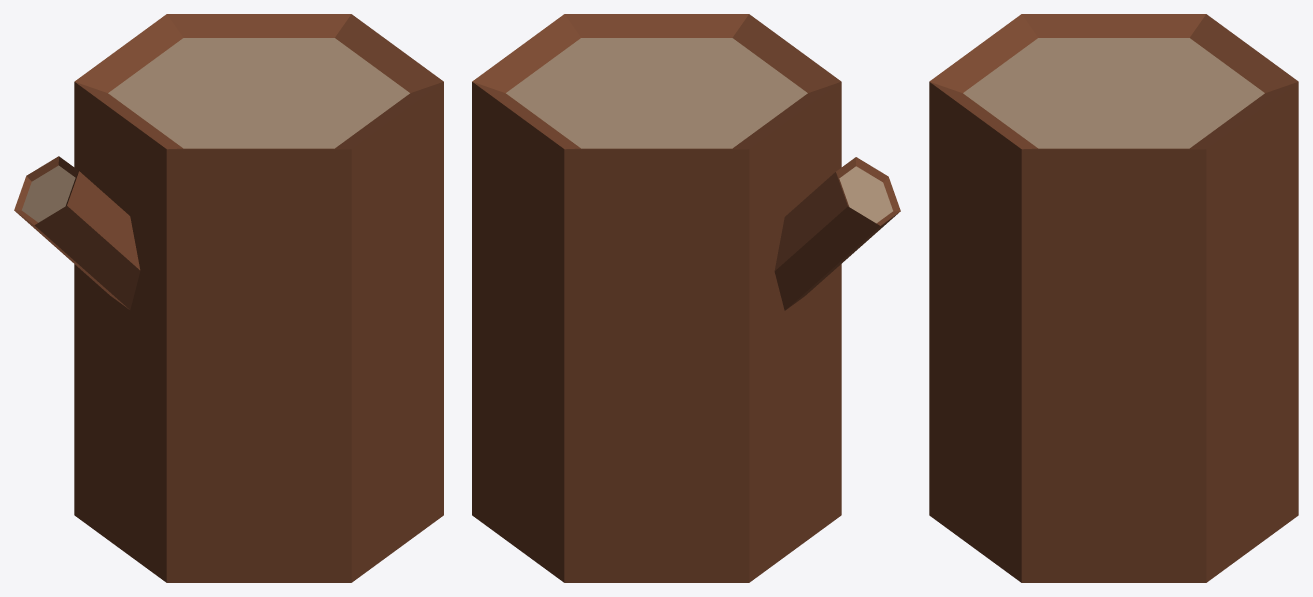
File: wood.fbx
3 views of the same model, side by side, from view 1: azimuth 30°, elevation 25°; view 2: azimuth 150°, elevation 25°; view 3: azimuth 270°, elevation 25° (orthographic).
Visible parts, largest first — view 1: Cylinder.001; view 2: Cylinder.001; view 3: Cylinder.001.
Part boxes in pixels (x1=…): Cylinder.001: x1=14, y1=14, x2=443, y2=582; Cylinder.001: x1=472, y1=14, x2=900, y2=582; Cylinder.001: x1=929, y1=14, x2=1298, y2=582.
Size of the model in its own units: 233 by 259 by 200.
